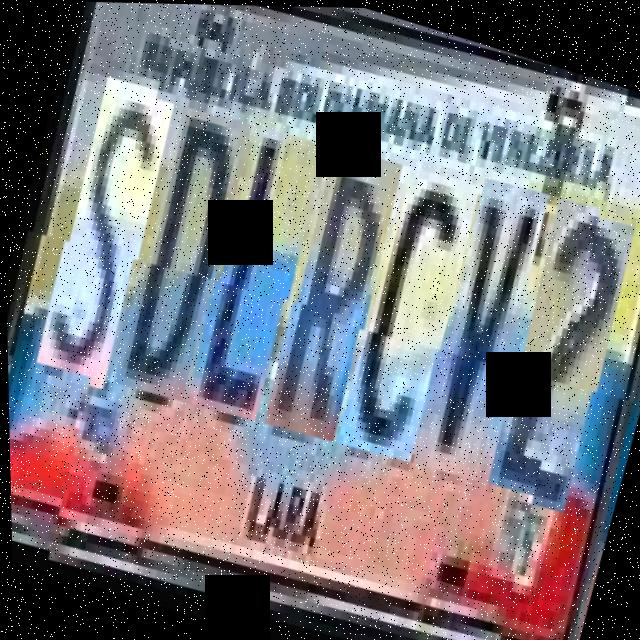2: (475, 195, 640, 510)
C: (325, 162, 488, 468)
D: (102, 103, 261, 405)
L: (175, 123, 333, 425)
R: (252, 143, 411, 447)
S: (22, 81, 183, 393)
V: (402, 176, 559, 486)
